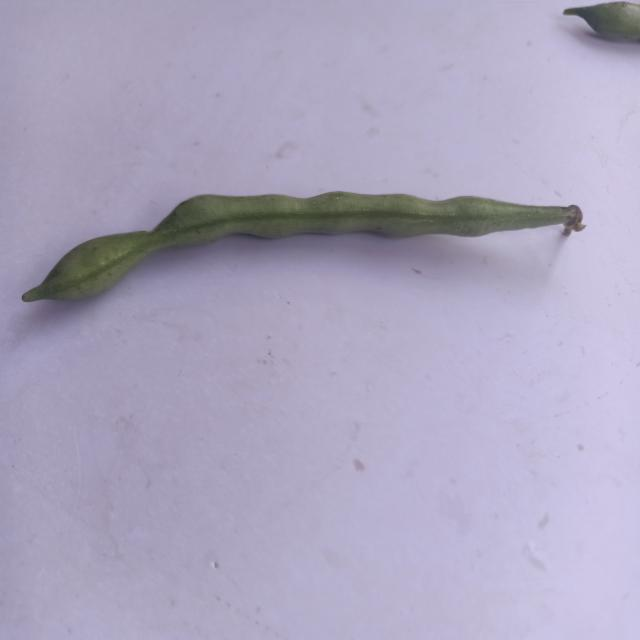Beans: (15, 169, 640, 353)
